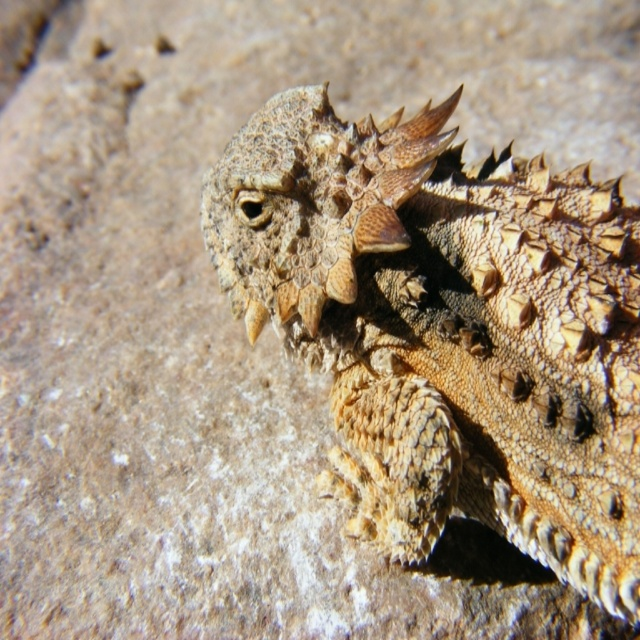Lizard: (210, 59, 633, 620)
